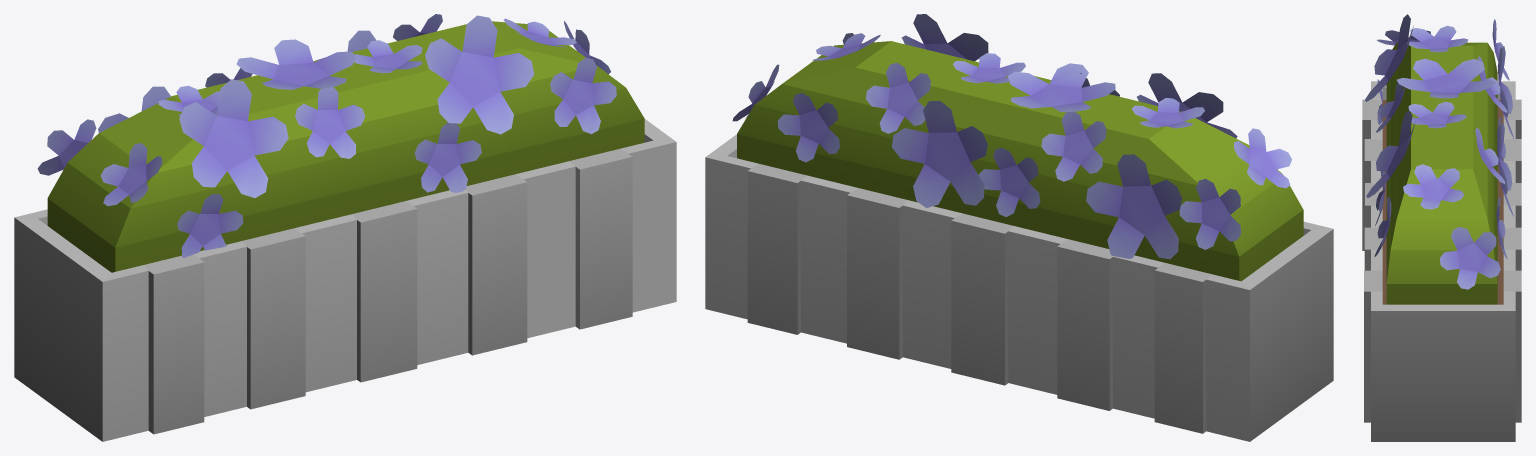
The model's file is farmpack2023flowerbed.fbx.
The picture shows the model from 3 angles, left to right: view 1: azimuth 30°, elevation 25°; view 2: azimuth 150°, elevation 25°; view 3: azimuth 270°, elevation 25°; orthographic projection. The views are drawn at different scales.
Parts seen in each view (by area): view 1: Cylinder.449; view 2: Cylinder.449; view 3: Cylinder.449.
Part boxes in pixels (x1,y1,x2,y2): Cylinder.449: [14, 14, 676, 441]; Cylinder.449: [705, 14, 1333, 441]; Cylinder.449: [1362, 14, 1521, 441].
Bounding box in the file's own units: 0.6387 × 2.18 × 1.12.
